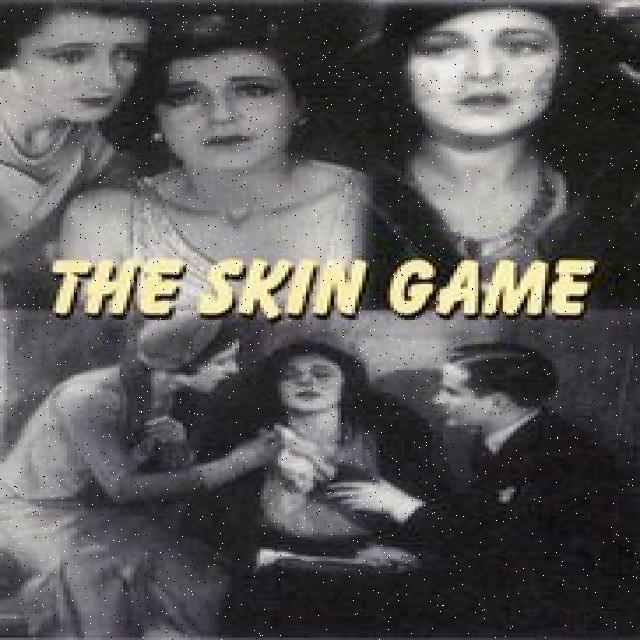movie-judul: (38, 252, 602, 323)
picture: (2, 331, 633, 639), (1, 2, 634, 244)
